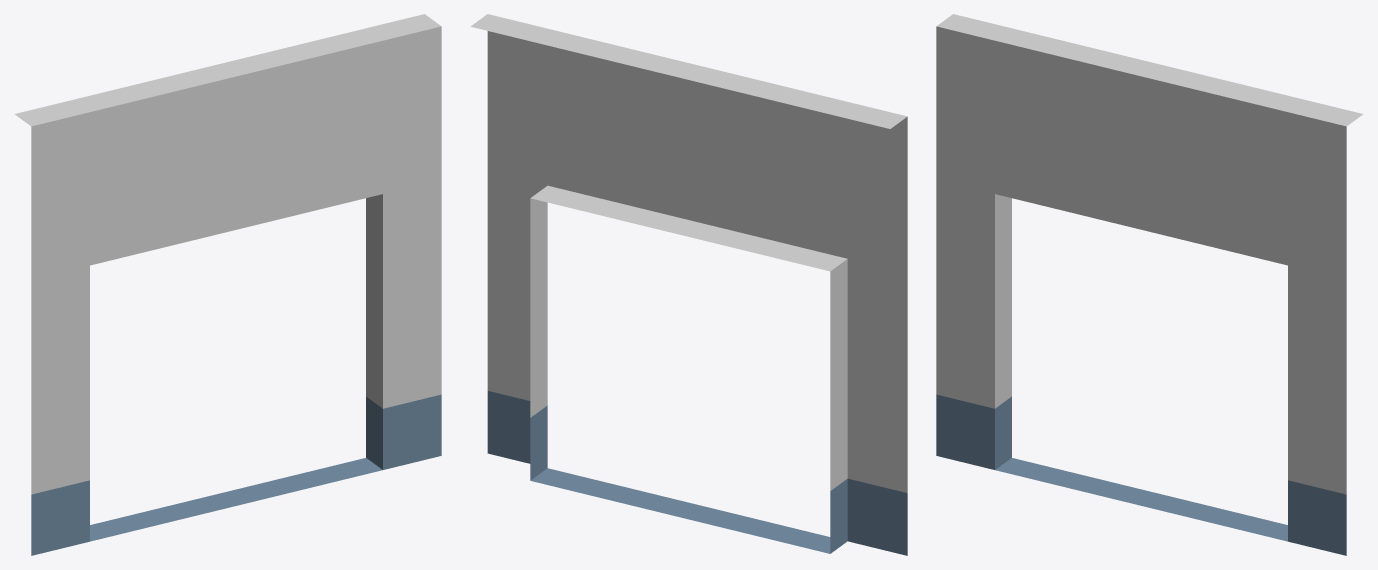
File: M_WallDoor150DWhite80-2.fbx
3 renders of one model, left to right at view 1: azimuth 30°, elevation 25°; view 2: azimuth 150°, elevation 25°; view 3: azimuth 330°, elevation 25°, orthographic. The views are drawn at different scales.
Parts seen in each view (by area): view 1: M_WallDoor150DWhite80-2; view 2: M_WallDoor150DWhite80-2; view 3: M_WallDoor150DWhite80-2.
Boxes of the visible parts, bbox=[...] form: M_WallDoor150DWhite80-2: bbox=[14, 14, 441, 555]; M_WallDoor150DWhite80-2: bbox=[471, 14, 907, 555]; M_WallDoor150DWhite80-2: bbox=[936, 14, 1363, 555].
Bounding box in the file's own units: 3.5 × 3.5 × 0.25.
